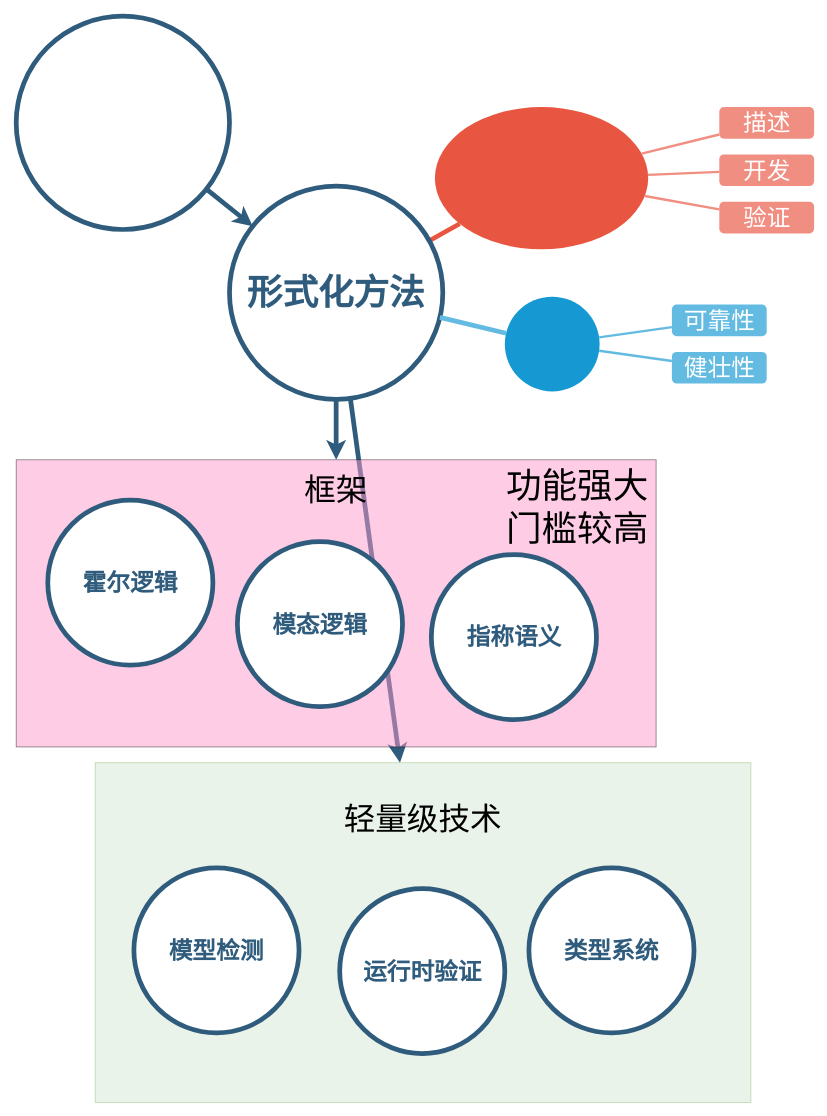
This 827x1116 diagram has some shape labels left out. Each missing label, with the centre of its shape:
"提高 设计的" goes at point (551, 343).
"数学方法" goes at point (122, 122).
"用于 软件和硬件系统的" goes at point (541, 178).
